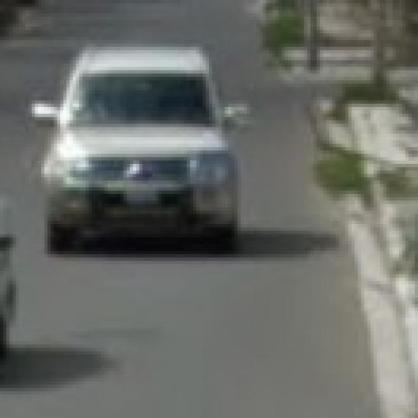car: (29, 46, 252, 253)
